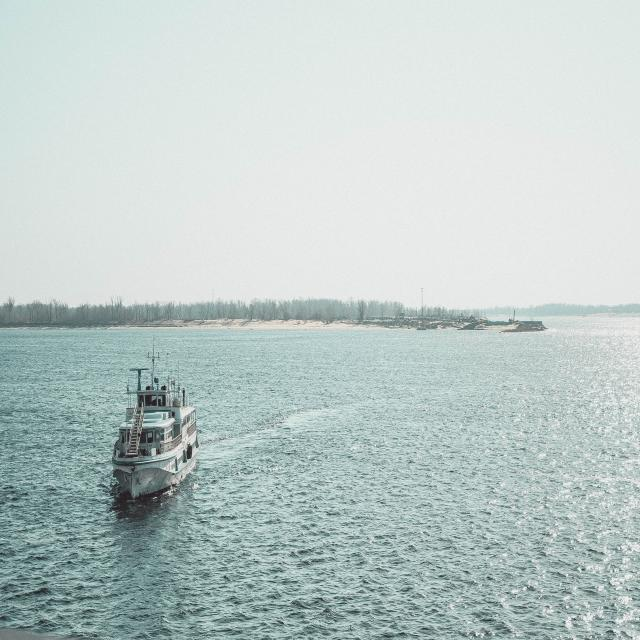houseboat: (110, 367, 201, 506)
